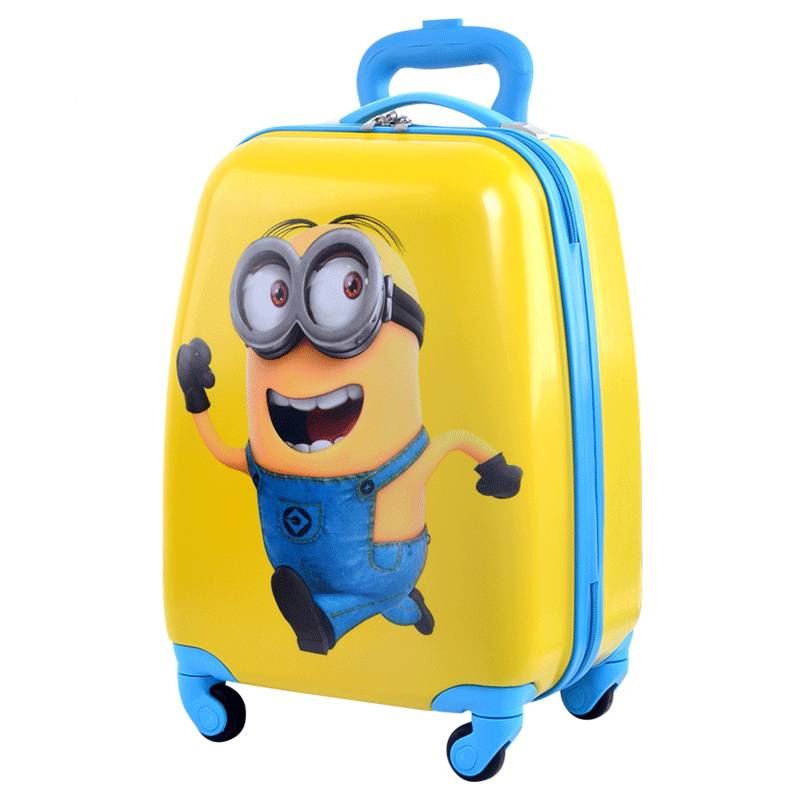luggage: (159, 18, 645, 783)
